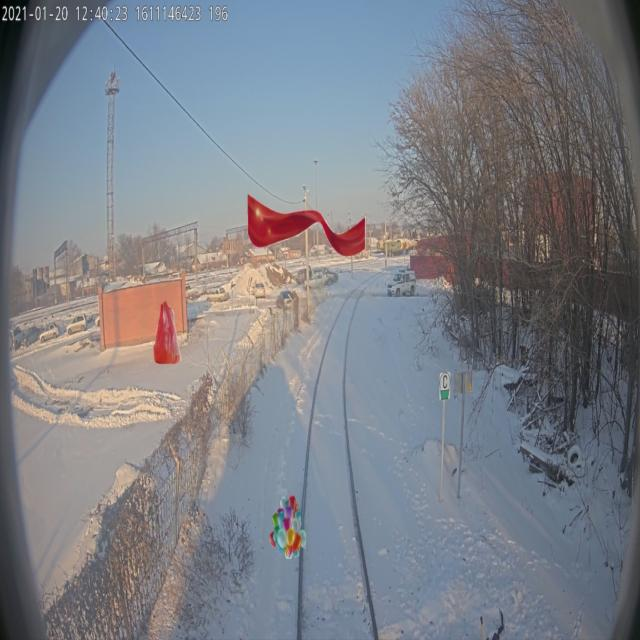balloon: (269, 495, 306, 559)
floating object: (245, 194, 368, 258)
plastic bag: (153, 300, 181, 364)
